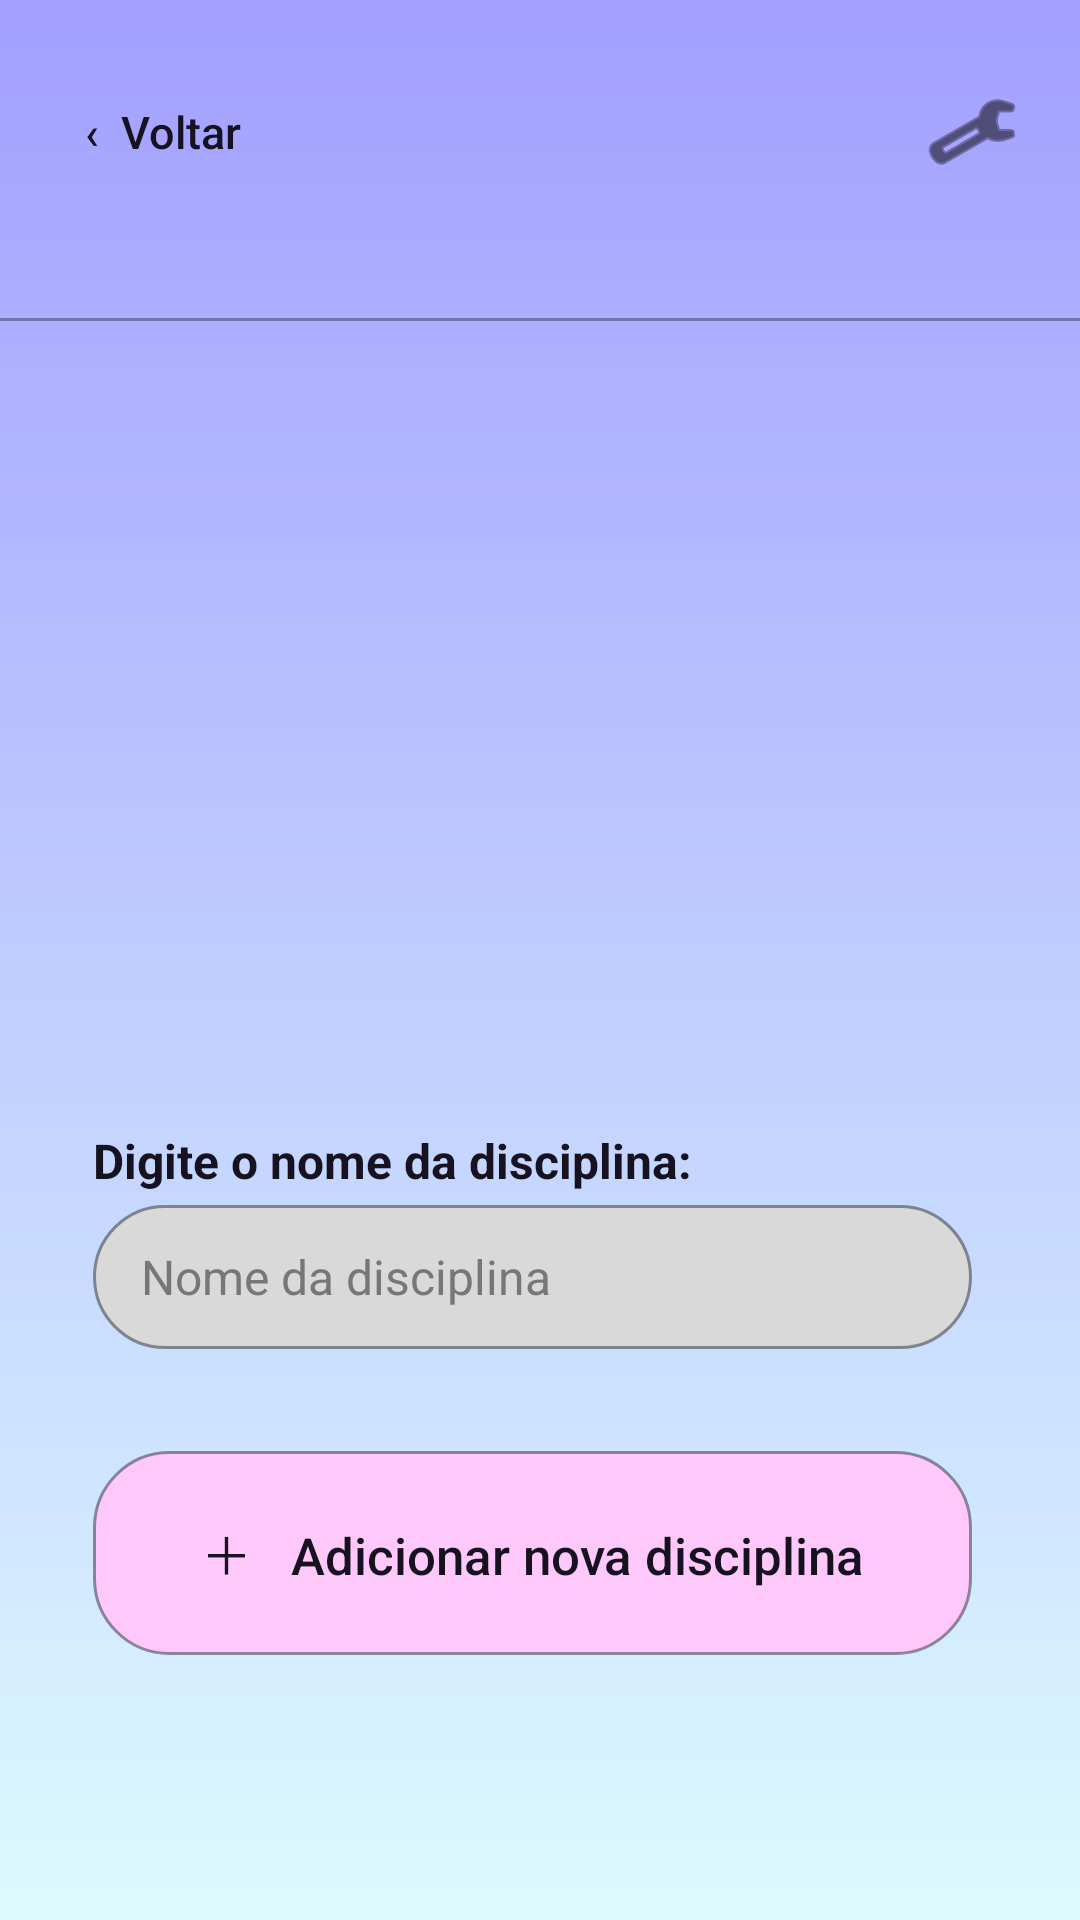

Where to tap for icons on this 1080px×1920px app screen, as (x,y):
Configurações: (972,132)
